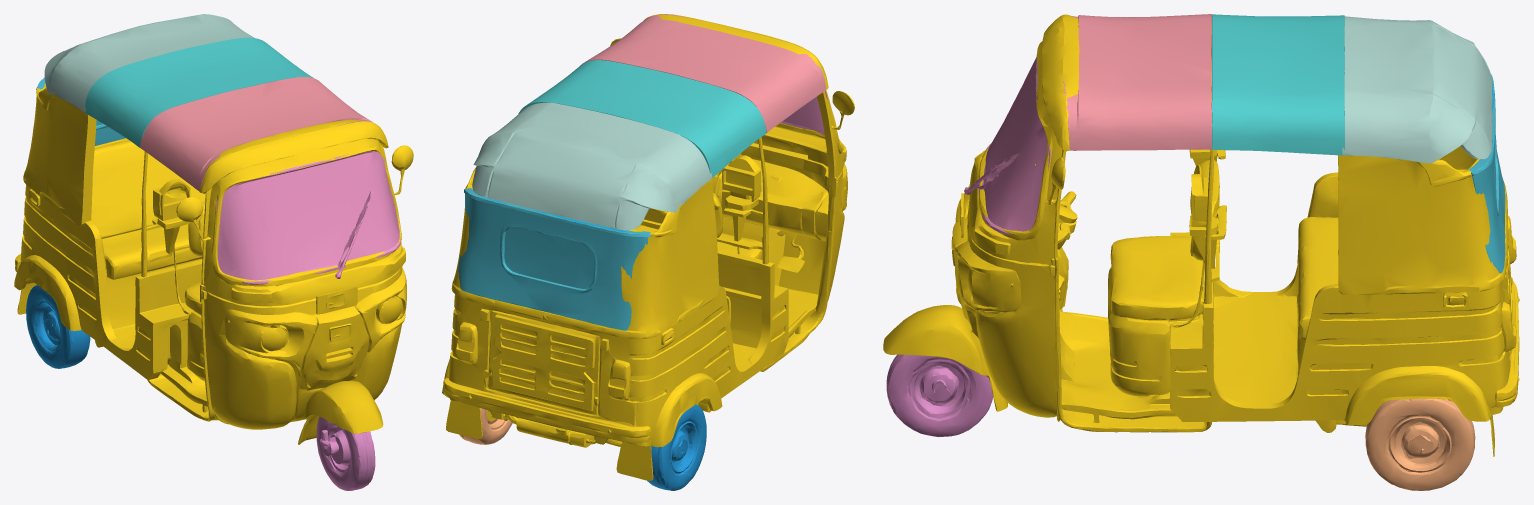
File: auto-vision-360-prototype.glb
The picture shows the model from 3 angles, left to right: view 1: azimuth 30°, elevation 25°; view 2: azimuth 150°, elevation 25°; view 3: azimuth 270°, elevation 25°; orthographic projection. The views are drawn at different scales.
Parts seen in each view (by area): view 1: root.0_root.0_0, root.5_root.5_0, root.1_root.1_0, root.3_root.3_0, root.2_root.2_0, root.9_root.9_0, root.7_root.7_0, root.8_root.8_0, root.4_root.4_0; view 2: root.0_root.0_0, root.2_root.2_0, root.4_root.4_0, root.3_root.3_0, root.1_root.1_0, root.8_root.8_0, root.5_root.5_0, root.6_root.6_0; view 3: root.0_root.0_0, root.2_root.2_0, root.1_root.1_0, root.3_root.3_0, root.6_root.6_0, root.5_root.5_0, root.7_root.7_0, root.9_root.9_0, root.4_root.4_0.
Part boxes in pixels (bbox=[...]): root.0_root.0_0: bbox=[14, 83, 413, 429]; root.5_root.5_0: bbox=[215, 151, 401, 284]; root.1_root.1_0: bbox=[139, 77, 373, 190]; root.3_root.3_0: bbox=[85, 37, 313, 147]; root.2_root.2_0: bbox=[44, 14, 254, 112]; root.9_root.9_0: bbox=[298, 381, 383, 444]; root.7_root.7_0: bbox=[316, 416, 375, 490]; root.8_root.8_0: bbox=[26, 285, 90, 368]; root.4_root.4_0: bbox=[36, 78, 125, 145]; root.0_root.0_0: bbox=[442, 14, 854, 480]; root.2_root.2_0: bbox=[472, 102, 712, 230]; root.4_root.4_0: bbox=[458, 188, 651, 330]; root.3_root.3_0: bbox=[518, 60, 766, 177]; root.1_root.1_0: bbox=[580, 14, 825, 132]; root.8_root.8_0: bbox=[647, 404, 706, 490]; root.5_root.5_0: bbox=[780, 90, 828, 134]; root.6_root.6_0: bbox=[459, 408, 512, 444]; root.0_root.0_0: bbox=[951, 14, 1519, 456]; root.2_root.2_0: bbox=[1342, 16, 1492, 163]; root.1_root.1_0: bbox=[1063, 14, 1211, 150]; root.3_root.3_0: bbox=[1211, 14, 1344, 155]; root.6_root.6_0: bbox=[1365, 398, 1475, 490]; root.5_root.5_0: bbox=[964, 57, 1050, 234]; root.7_root.7_0: bbox=[886, 354, 993, 436]; root.9_root.9_0: bbox=[883, 305, 1007, 411]; root.4_root.4_0: bbox=[1467, 74, 1505, 273].
Size of the model in its own units: 1.41 by 1.8 by 2.72.
